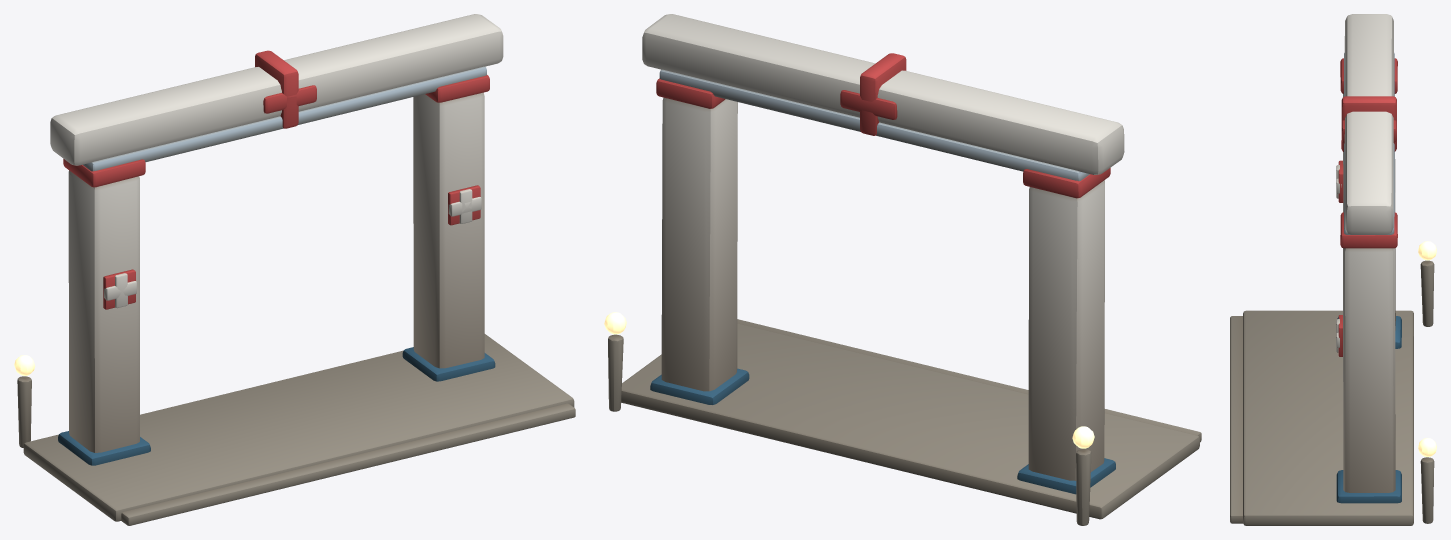
3 renders of one model, left to right at view 1: azimuth 30°, elevation 25°; view 2: azimuth 150°, elevation 25°; view 3: azimuth 270°, elevation 25°, orthographic. The views are drawn at different scales.
Parts seen in each view (by area): view 1: gate_e0a420b0; view 2: gate_e0a420b0; view 3: gate_e0a420b0.
Boxes of the visible parts, x1=… form: gate_e0a420b0: x1=14, y1=14, x2=575, y2=525; gate_e0a420b0: x1=604, y1=14, x2=1201, y2=525; gate_e0a420b0: x1=1230, y1=14, x2=1436, y2=525.
Size of the model in its own units: 5.99 by 4.43 by 2.54.
